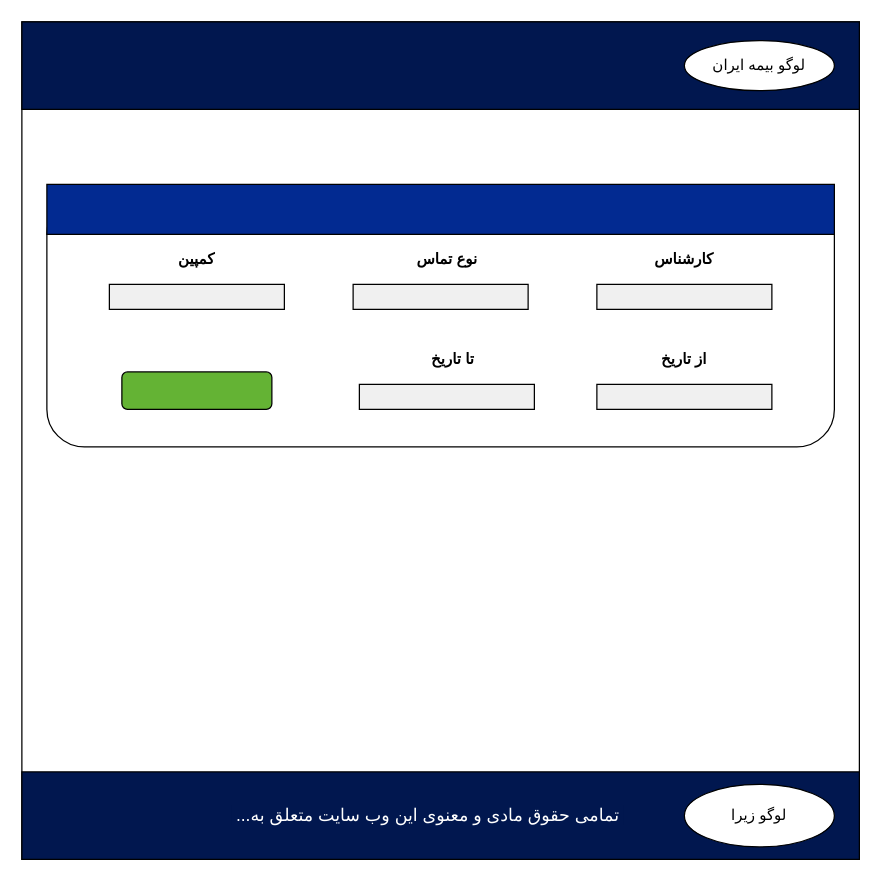
Some shapes in this 881 by 881 pixel diagram are drawn without their labels. Each missing label, with the centre of its shape:
جستجو و گزارشگیری: (x=440, y=208)
شروع گزارشگیری: (x=196, y=390)
